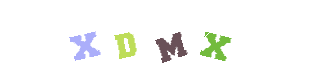D: (115, 0, 195, 80)
M: (131, 0, 211, 80)
X: (57, 0, 137, 80), (136, 0, 216, 80)
